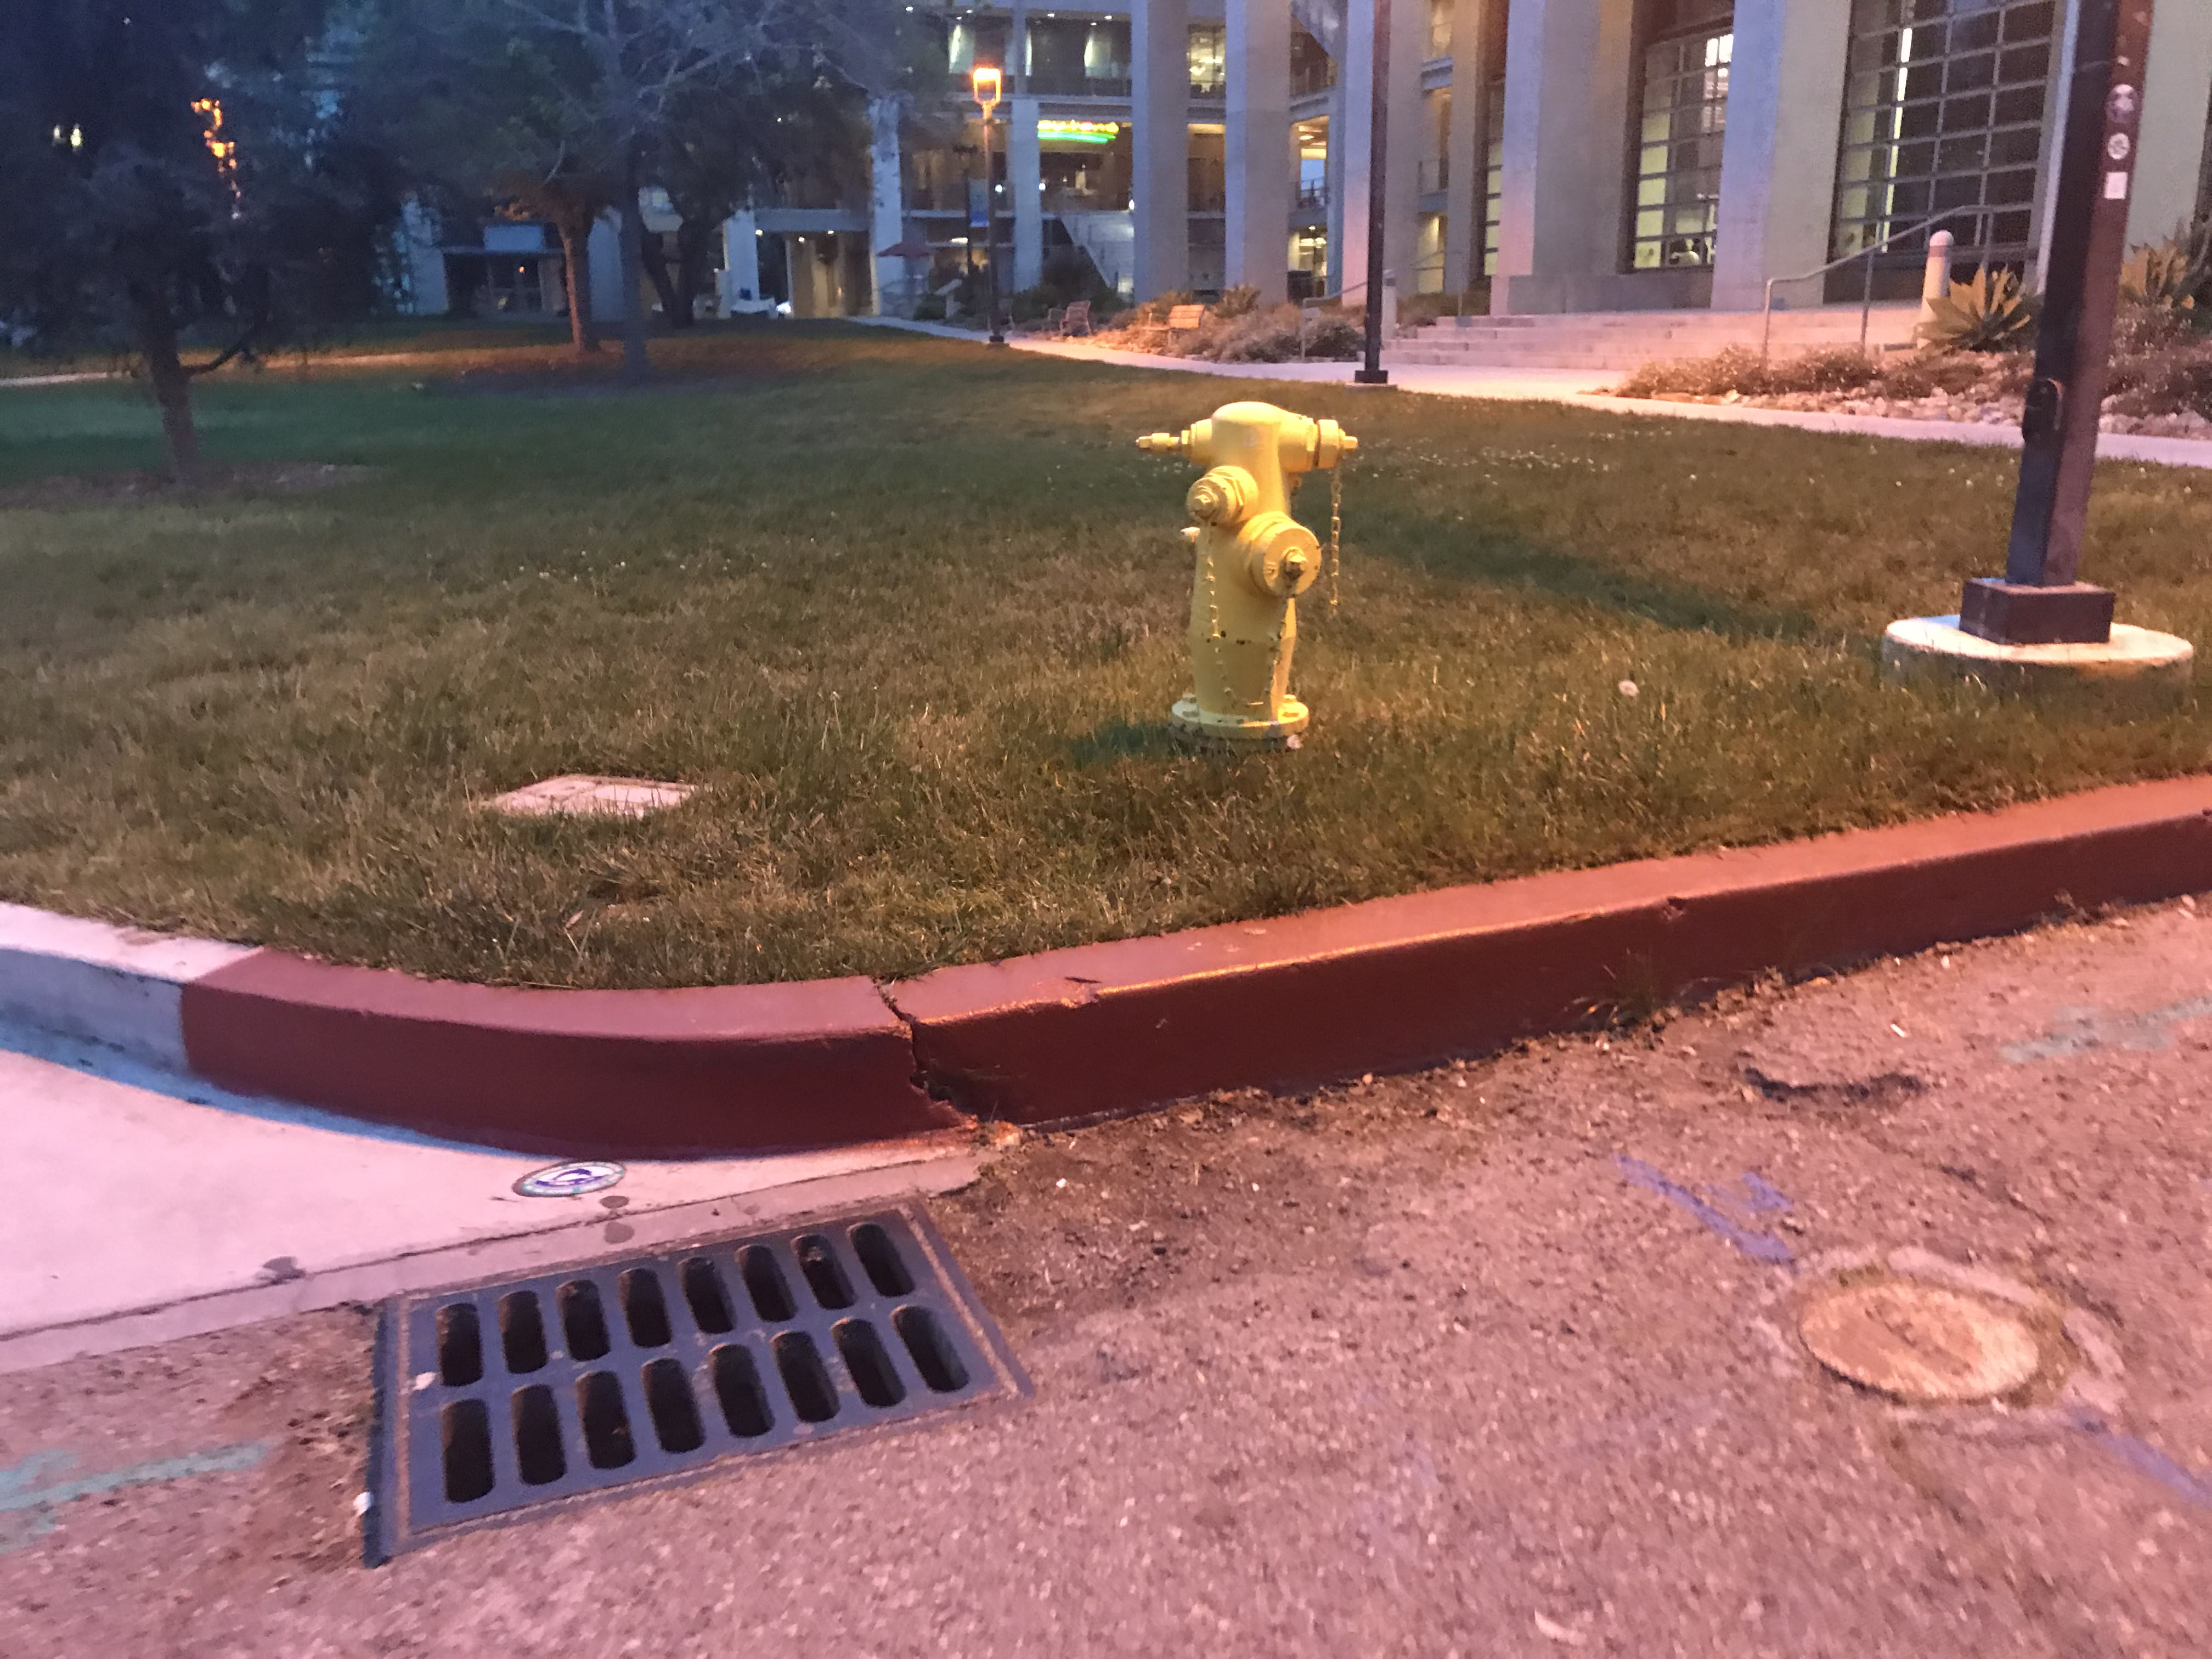Edge: (3, 762, 2209, 1169)
Obstacle: (1170, 420, 1329, 741)
Pothole: (1764, 1236, 2130, 1446)
